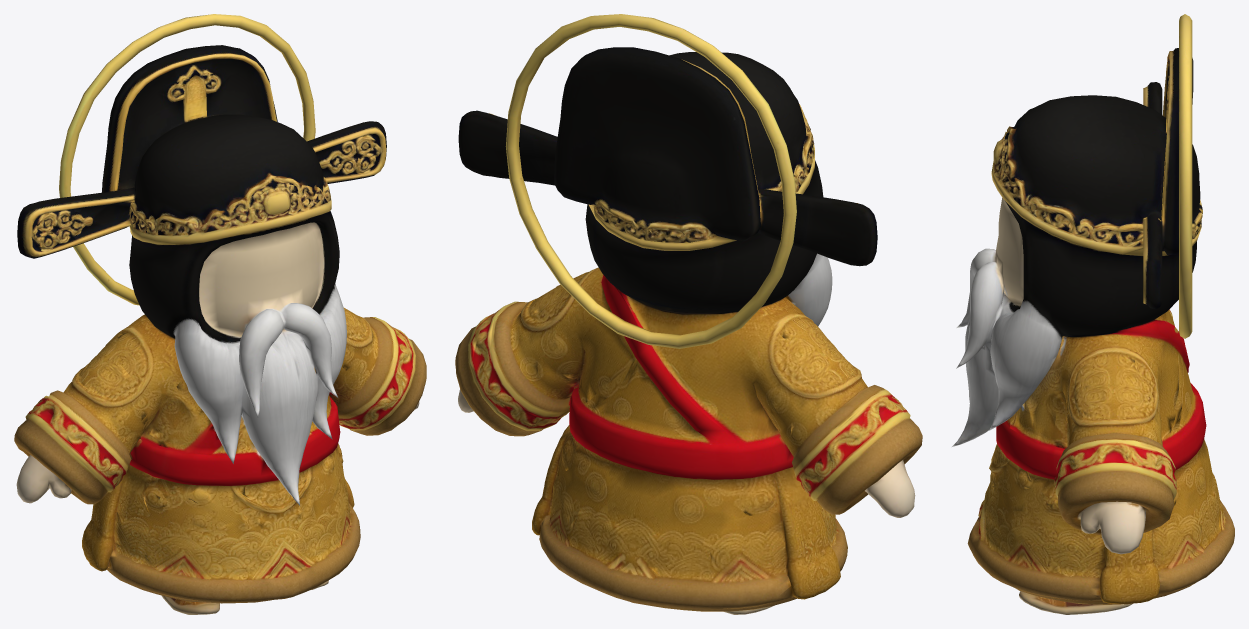
File: tudi.glb
The picture shows the model from 3 angles, left to right: view 1: azimuth 30°, elevation 25°; view 2: azimuth 150°, elevation 25°; view 3: azimuth 270°, elevation 25°; orthographic projection. The views are drawn at different scales.
Parts seen in each view (by area): view 1: tripo_node_15ef13ca-1f36-499f-a7a0-49e03b12a1fa; view 2: tripo_node_15ef13ca-1f36-499f-a7a0-49e03b12a1fa; view 3: tripo_node_15ef13ca-1f36-499f-a7a0-49e03b12a1fa.
Boxes of the visible parts, <box> form: tripo_node_15ef13ca-1f36-499f-a7a0-49e03b12a1fa: <box>14,14,426,614</box>; tripo_node_15ef13ca-1f36-499f-a7a0-49e03b12a1fa: <box>455,14,922,614</box>; tripo_node_15ef13ca-1f36-499f-a7a0-49e03b12a1fa: <box>951,14,1234,614</box>.
Bounding box in the file's own units: 0.7597 × 0.9779 × 0.4574.
Materials: 1 (1 with a texture image).
